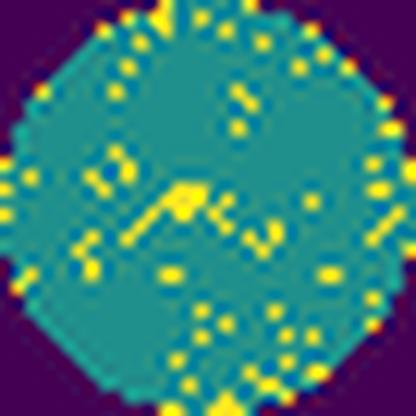Center: (121, 180, 214, 248)
